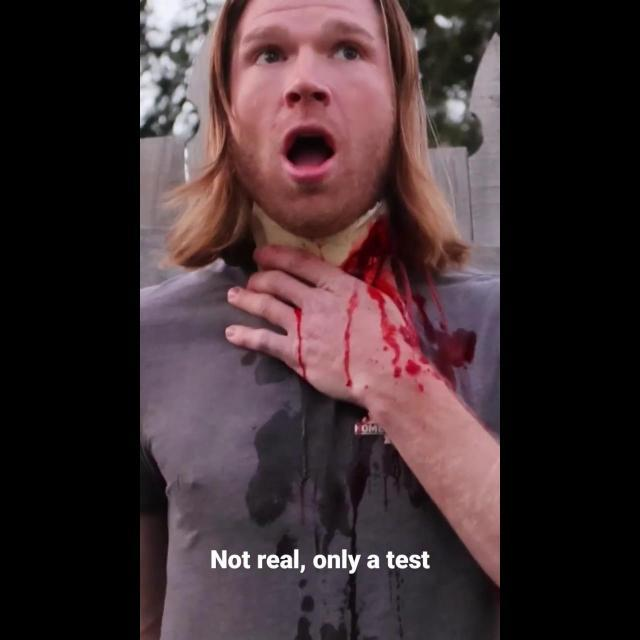blood: (340, 214, 476, 390), (293, 274, 446, 420)
